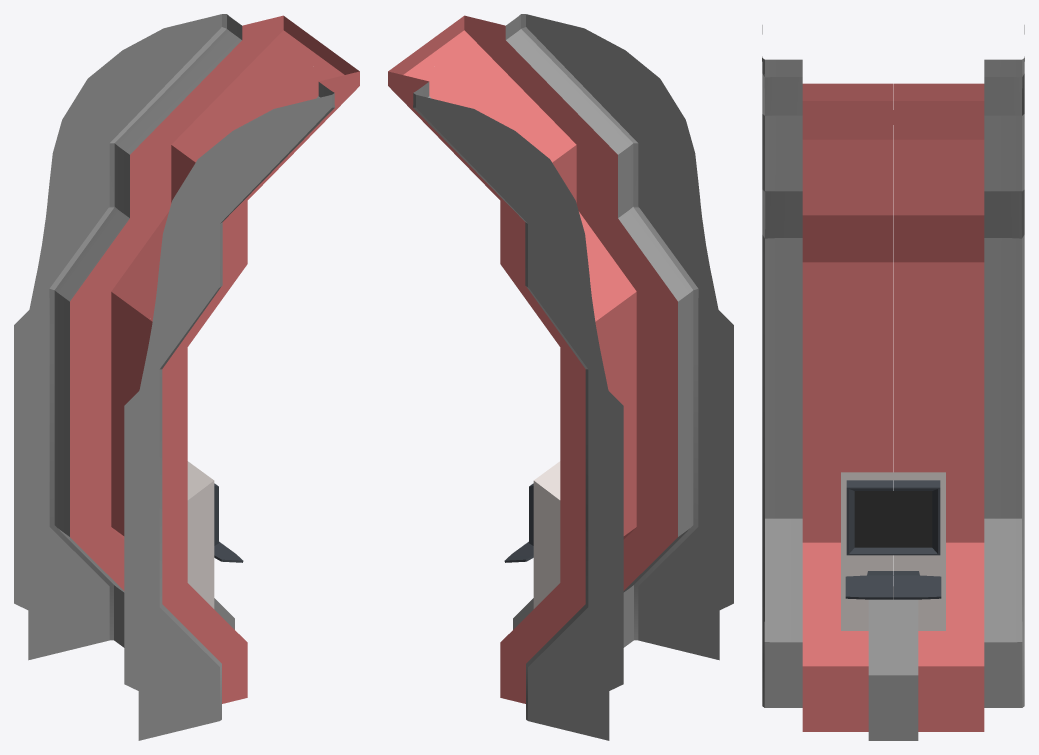
Rendered from WallTerminal.fbx.
3 views of the same model, side by side, from view 1: azimuth 30°, elevation 25°; view 2: azimuth 150°, elevation 25°; view 3: azimuth 270°, elevation 25° (orthographic). The views are drawn at different scales.
Visible parts, largest first — view 1: pasted__polySurface147, pasted__polySurface141; view 2: pasted__polySurface141, pasted__polySurface147; view 3: pasted__polySurface141, pasted__polySurface147.
Part boxes in pixels (box(x1,y1,x2,y2)): pasted__polySurface147: box(14, 14, 321, 660); pasted__polySurface141: box(124, 44, 359, 740); pasted__polySurface141: box(426, 14, 733, 660); pasted__polySurface147: box(388, 44, 623, 740); pasted__polySurface141: box(762, 25, 893, 740); pasted__polySurface147: box(893, 25, 1024, 740).
Bounding box in the file's own units: 6.69 × 15.17 × 5.06.
